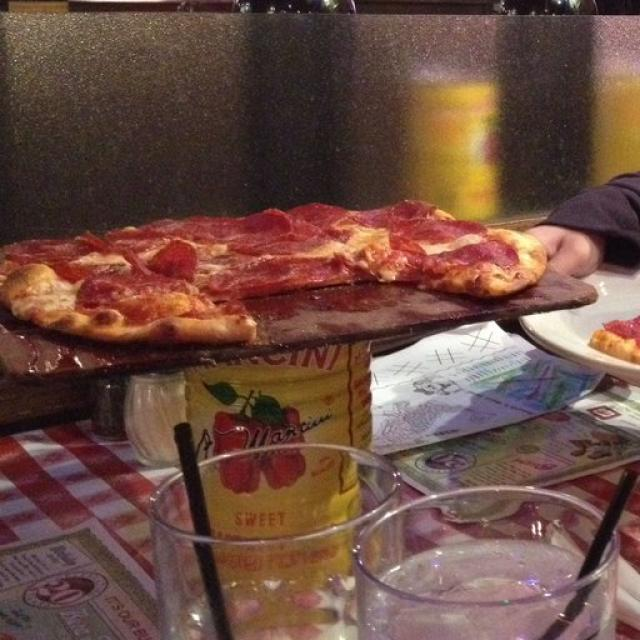Pepperoni: (234, 202, 340, 254), (416, 239, 516, 274), (126, 251, 198, 293), (264, 258, 378, 281), (357, 200, 430, 226), (398, 217, 479, 240), (211, 270, 293, 292), (77, 280, 133, 303), (13, 246, 73, 264), (208, 214, 244, 243), (62, 262, 114, 282), (134, 225, 198, 239), (397, 235, 424, 261), (88, 236, 128, 252)
Pizza: (0, 200, 544, 345)
